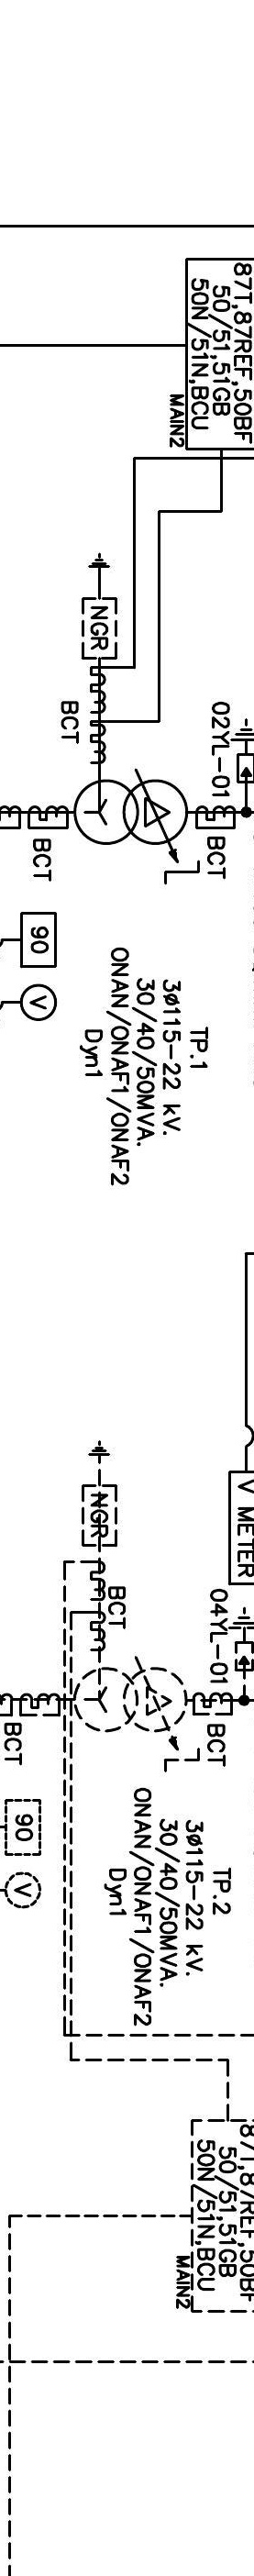11522_tx_dyn1: (72, 779, 188, 846)
NGR_future: (80, 552, 118, 660)
v_m: (20, 982, 57, 1022)
